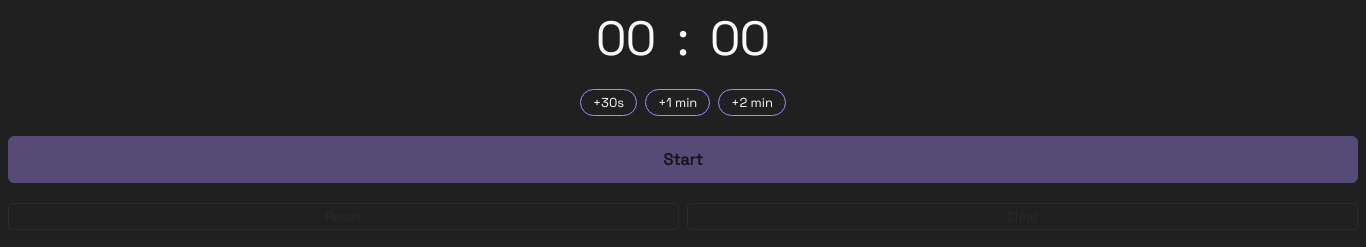
Test: TimerControls › pill buttons › adds 1 minute when +1 min is clicked
Click the button "+1 min" at (678, 102), box [645,89,710,116]
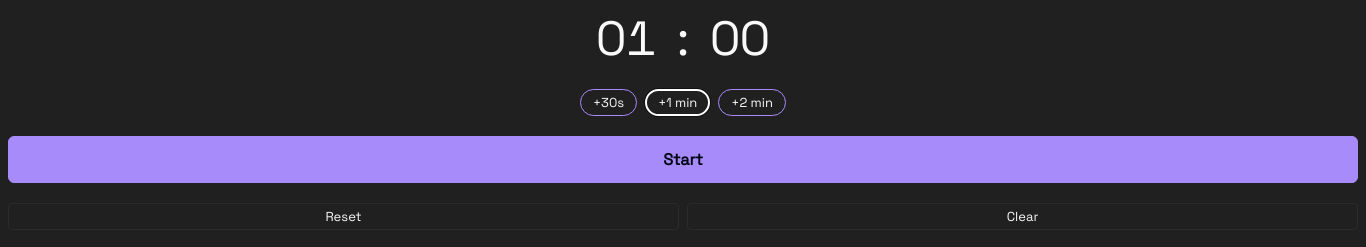
Check: the field named "Seconds" holds "00", box [694,8,786,69]
Check: the field named "Minutes" holds "01", box [580,8,672,69]
